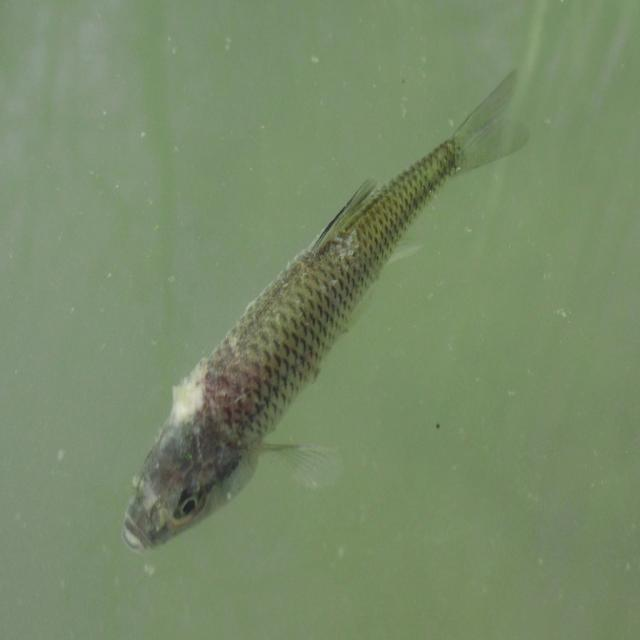Cakil Baligi: (119, 64, 535, 560)
